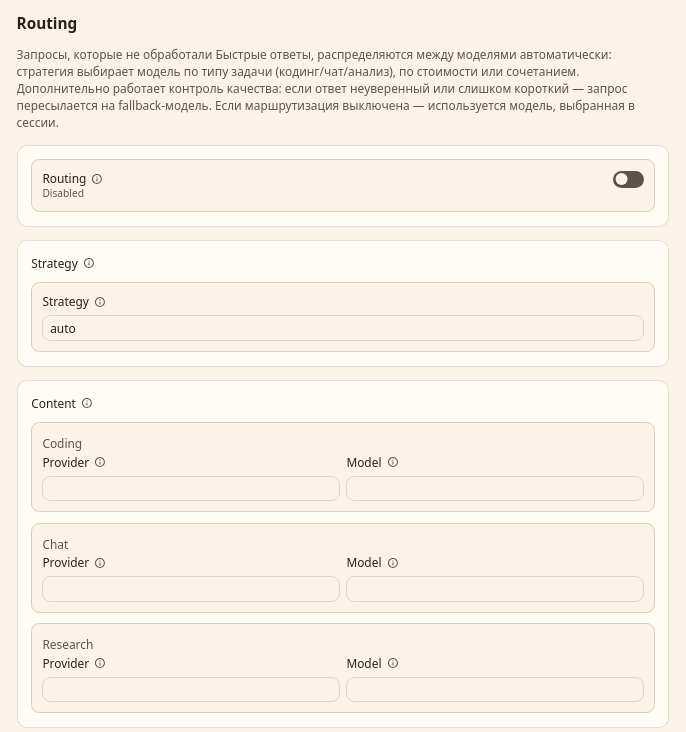
Test: RoutingSettings — миграция на Settings UI Kit (ADR-072) › Reset серый/неактивен на дефолте и активен при изменениях
The width and height of the screenshot is (686, 732).
Click the switch named "Routing" at (628, 179), box [613,171,644,188]
(page scrolled)
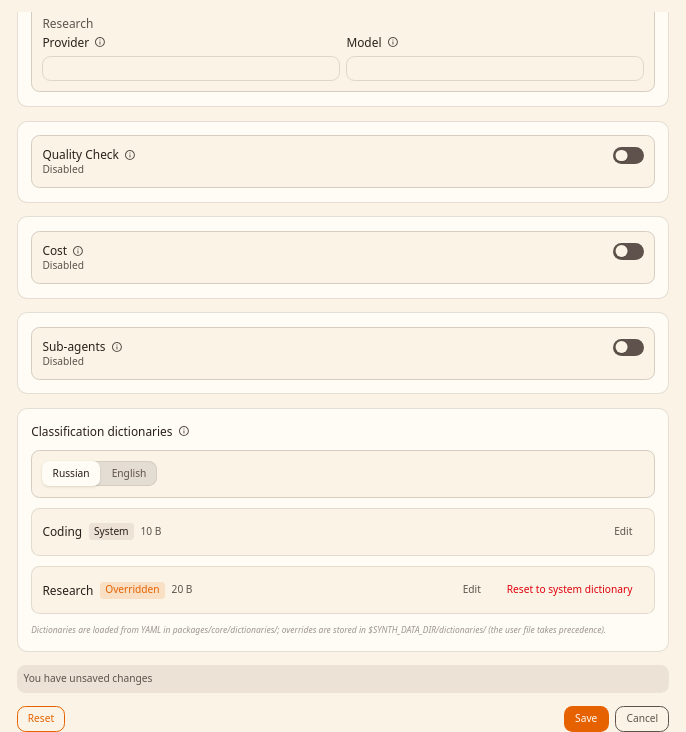
Expected: the button with test id "routing-reset" is enabled, [17,706,65,731]
